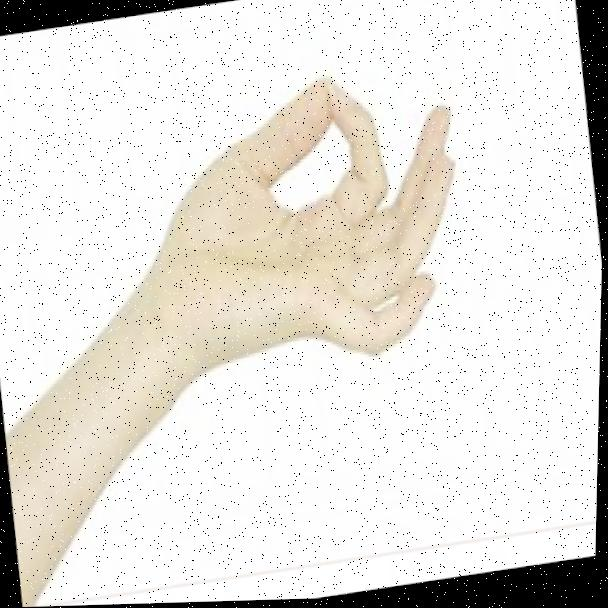five: (122, 47, 484, 394)
